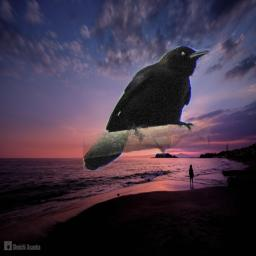Crow: (83, 46, 210, 171)
